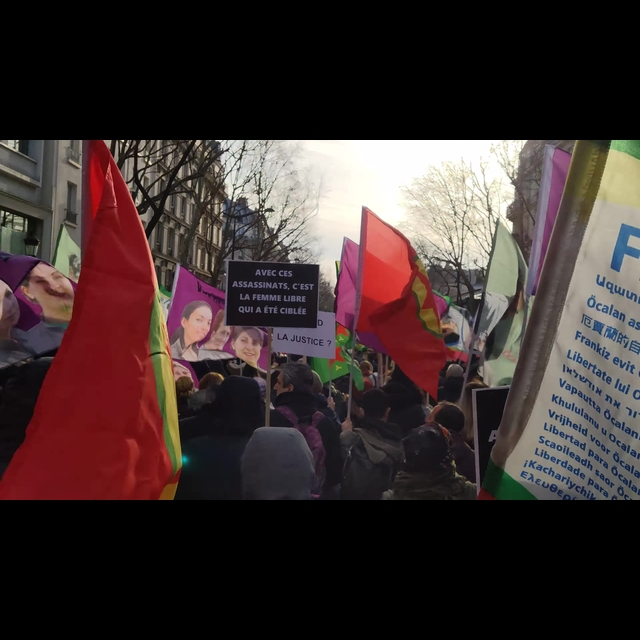PKK: (330, 198, 447, 393)
